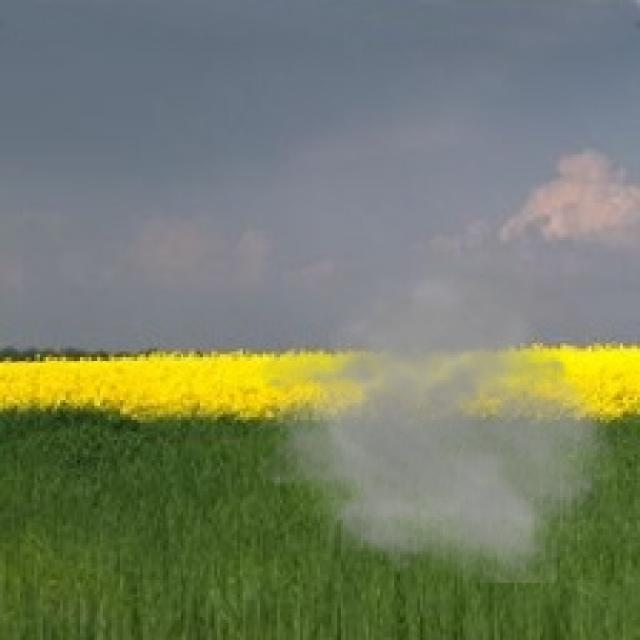smoke: (254, 240, 626, 583)
